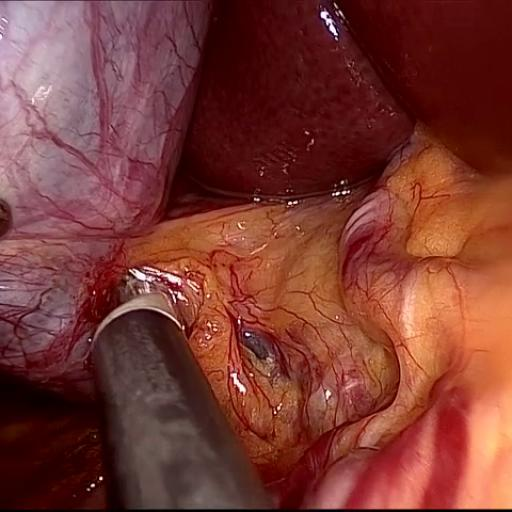Hook: (45, 230, 219, 398)
